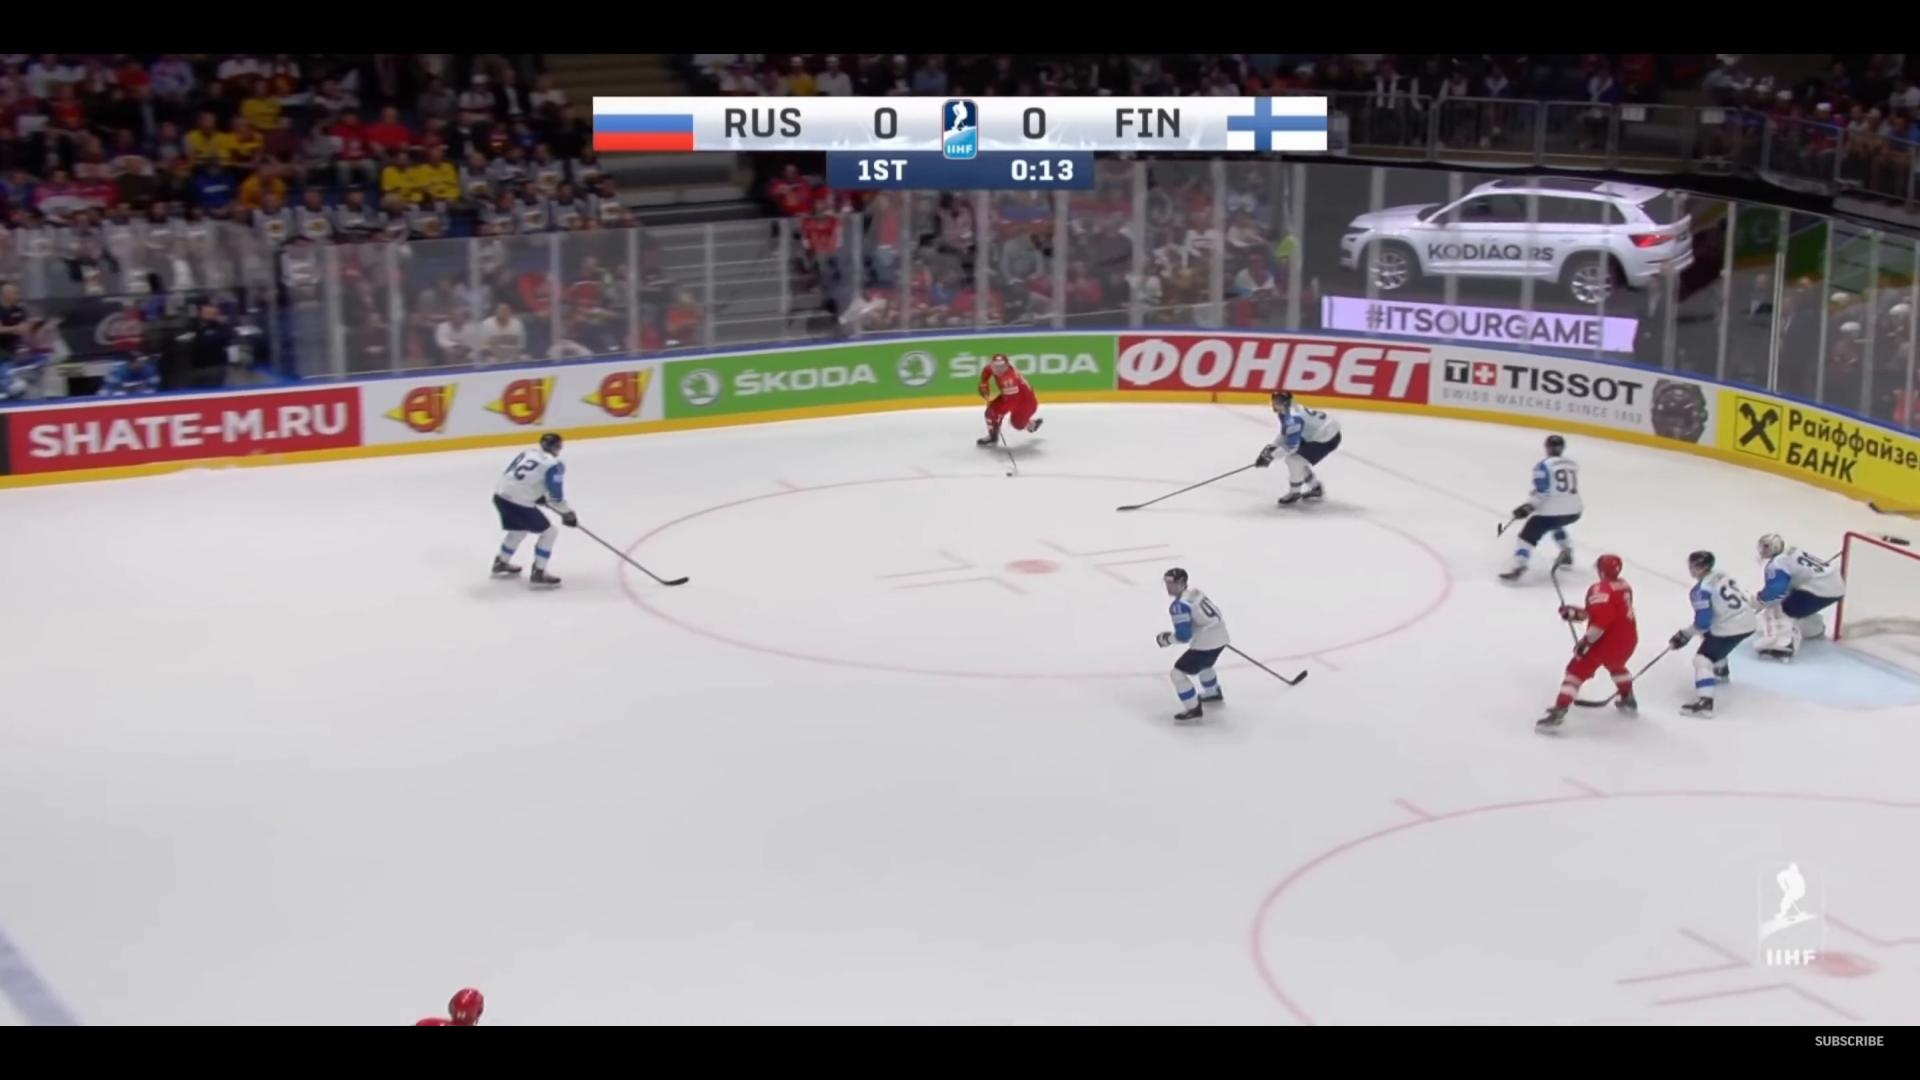puck: (1005, 472, 1012, 476)
